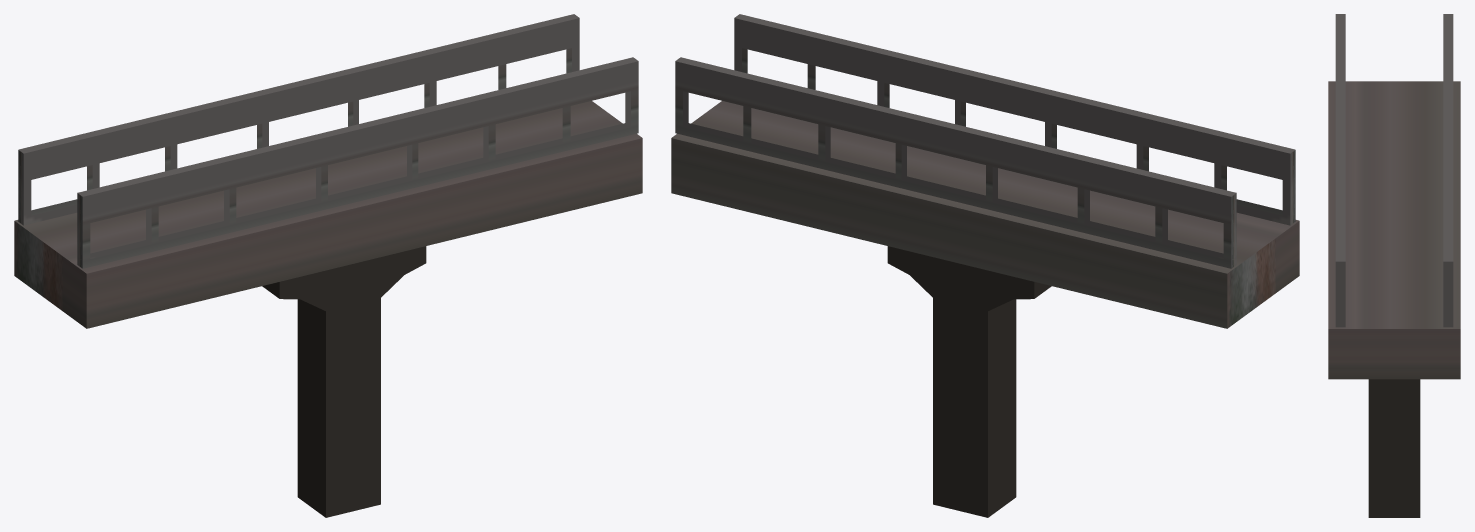
Rendered from 3D_Midground_Bridge_TextTest.fbx.
3 views of the same model, side by side, from view 1: azimuth 30°, elevation 25°; view 2: azimuth 150°, elevation 25°; view 3: azimuth 270°, elevation 25° (orthographic). The views are drawn at different scales.
Visible parts, largest first — view 1: pCube5; view 2: pCube5; view 3: pCube5.
Boxes of the visible parts, bbox=[...] form: pCube5: bbox=[14, 14, 642, 517]; pCube5: bbox=[671, 14, 1299, 517]; pCube5: bbox=[1328, 14, 1460, 517].
Size of the model in its own units: 16.49 by 11.28 by 3.73.
